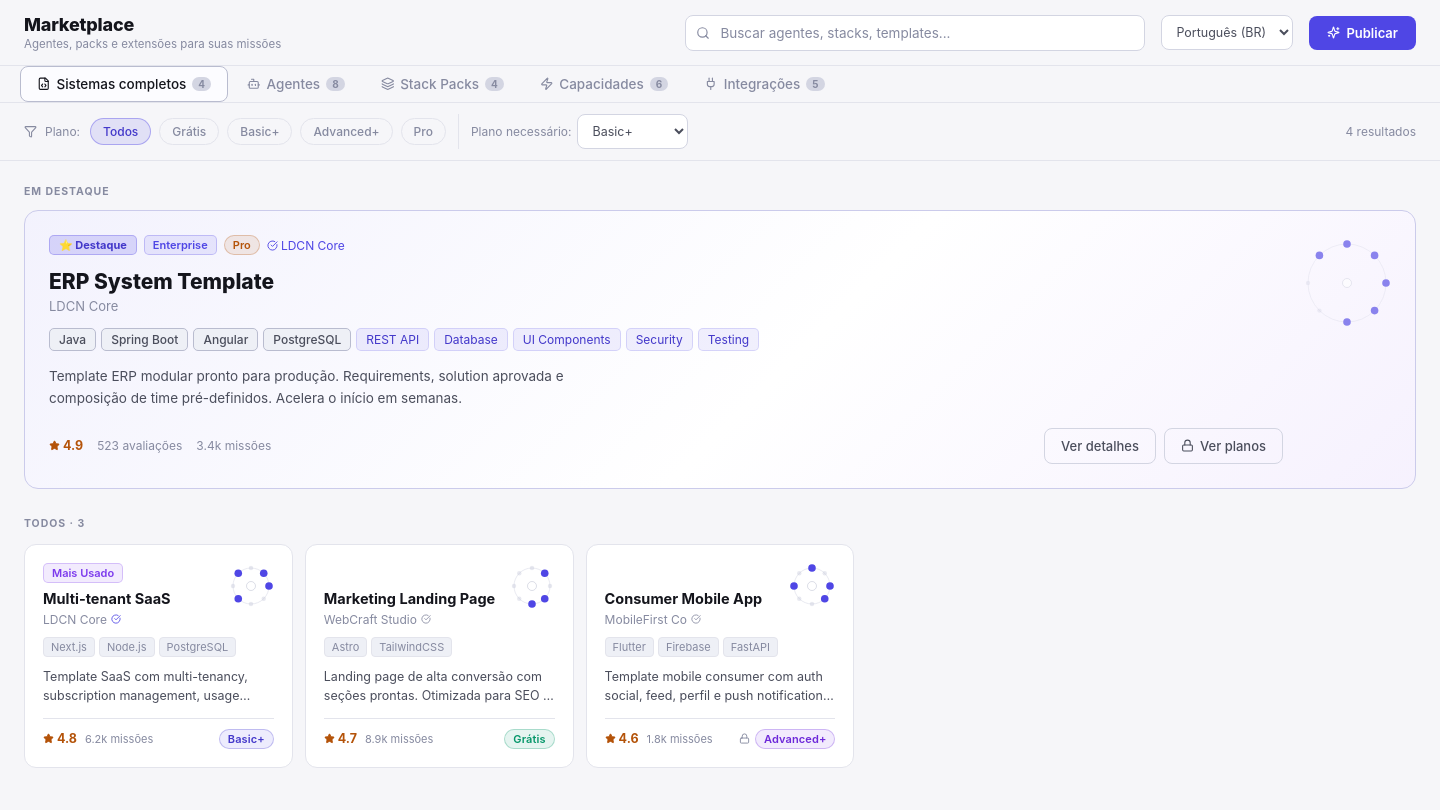
Scenario: Marketplace › switches locale and re-renders translated strings
Select "English" in the dropdown named "Idioma" at (1227, 32), box [1161,15,1293,50]
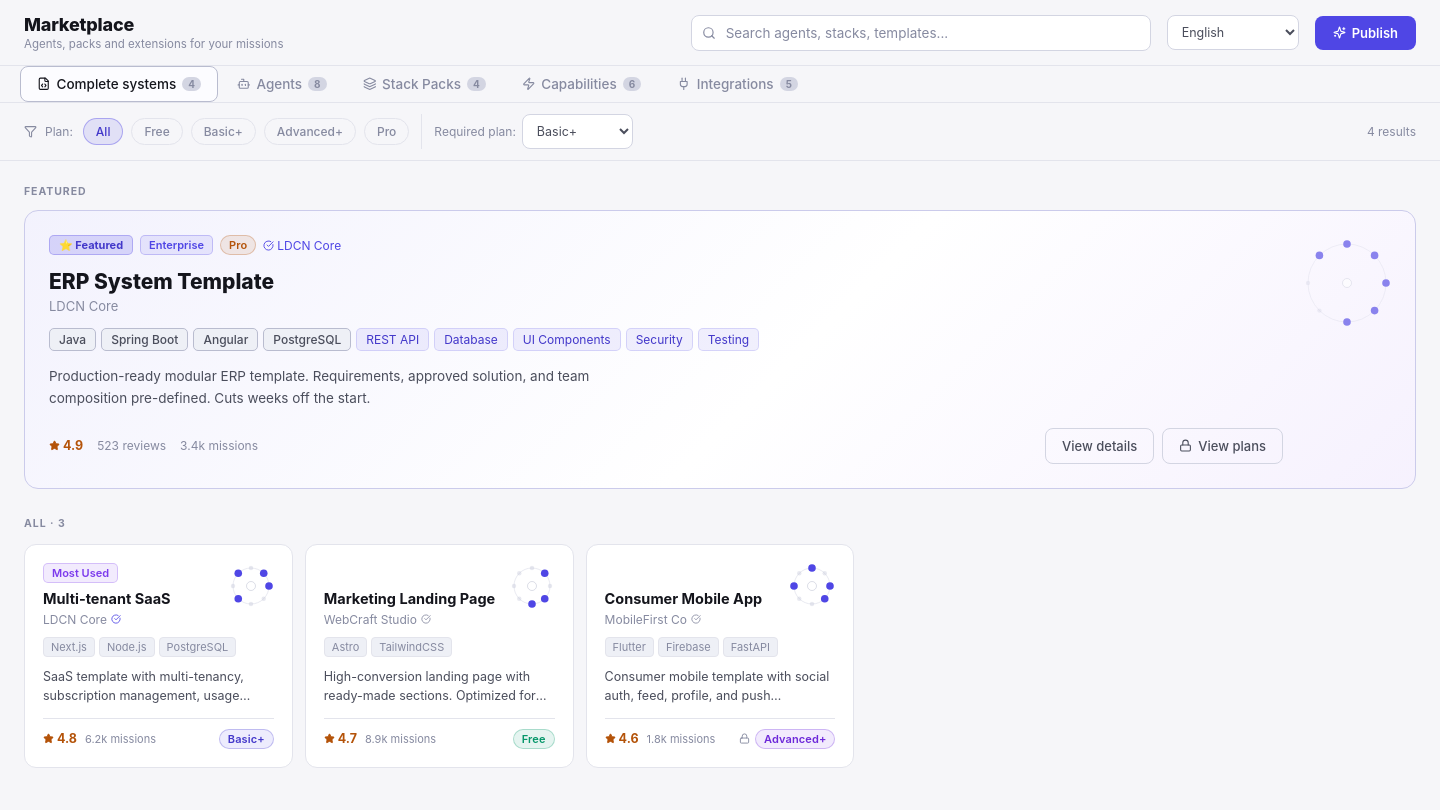
Expected: the heading "ERP System Template" is shown, [49,269,274,294]
Expected: the field with placeholder "Search agents, stacks, templates..." is shown, [691,14,1151,50]
